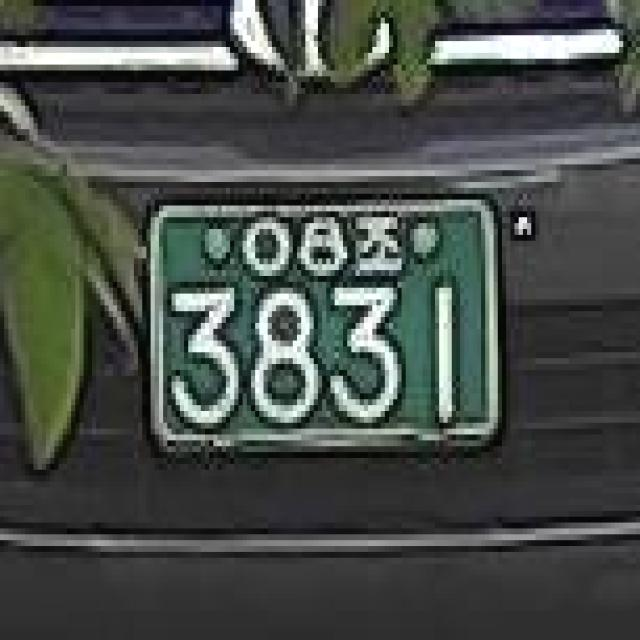illegal_plate: (132, 174, 512, 478)
